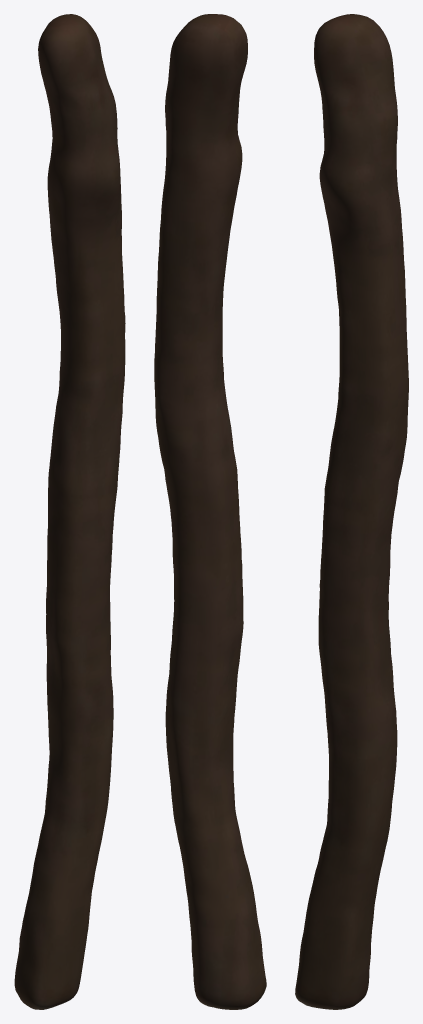
The model's file is 8f7361cdff80_stick__3d_asset_0_g.fbx.
3 renders of one model, left to right at view 1: azimuth 30°, elevation 25°; view 2: azimuth 150°, elevation 25°; view 3: azimuth 330°, elevation 25°, orthographic.
Parts seen in each view (by area): view 1: mesh; view 2: mesh; view 3: mesh.
Part boxes in pixels (<box>): mesh: <box>14,14,125,1009</box>; mesh: <box>154,14,266,1009</box>; mesh: <box>295,14,408,1009</box>.
Bounding box in the file's own units: 10.34 × 99.97 × 8.08.
